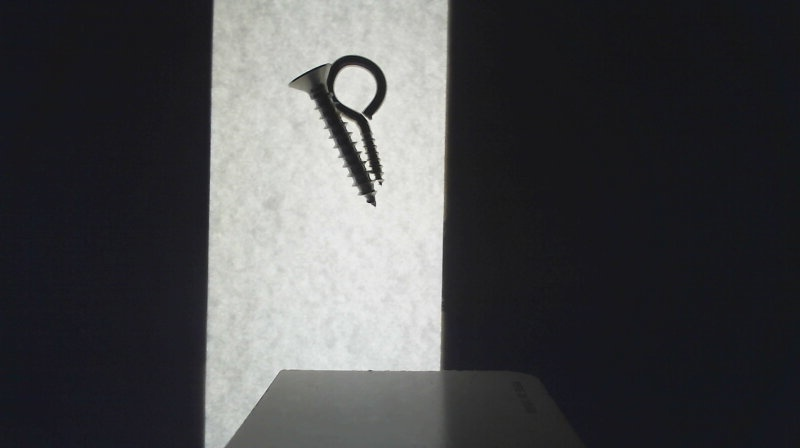O001: (326, 52, 388, 186)
S001: (289, 60, 379, 206)
